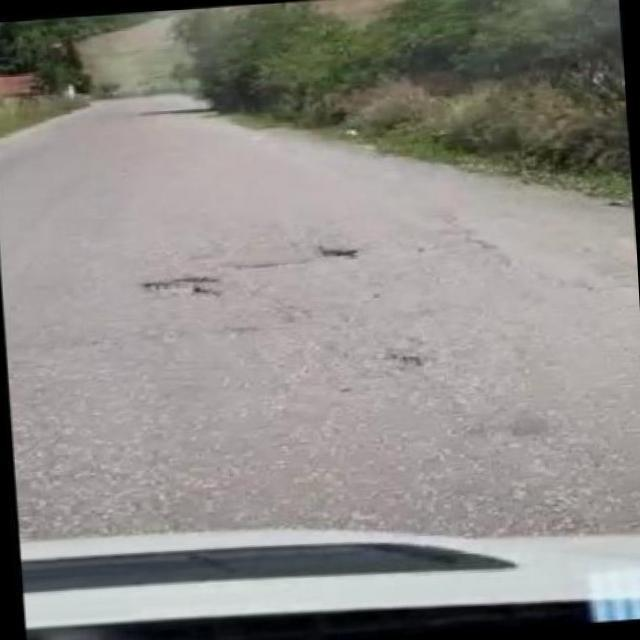Pothole: (139, 277, 222, 296), (319, 247, 358, 258)
